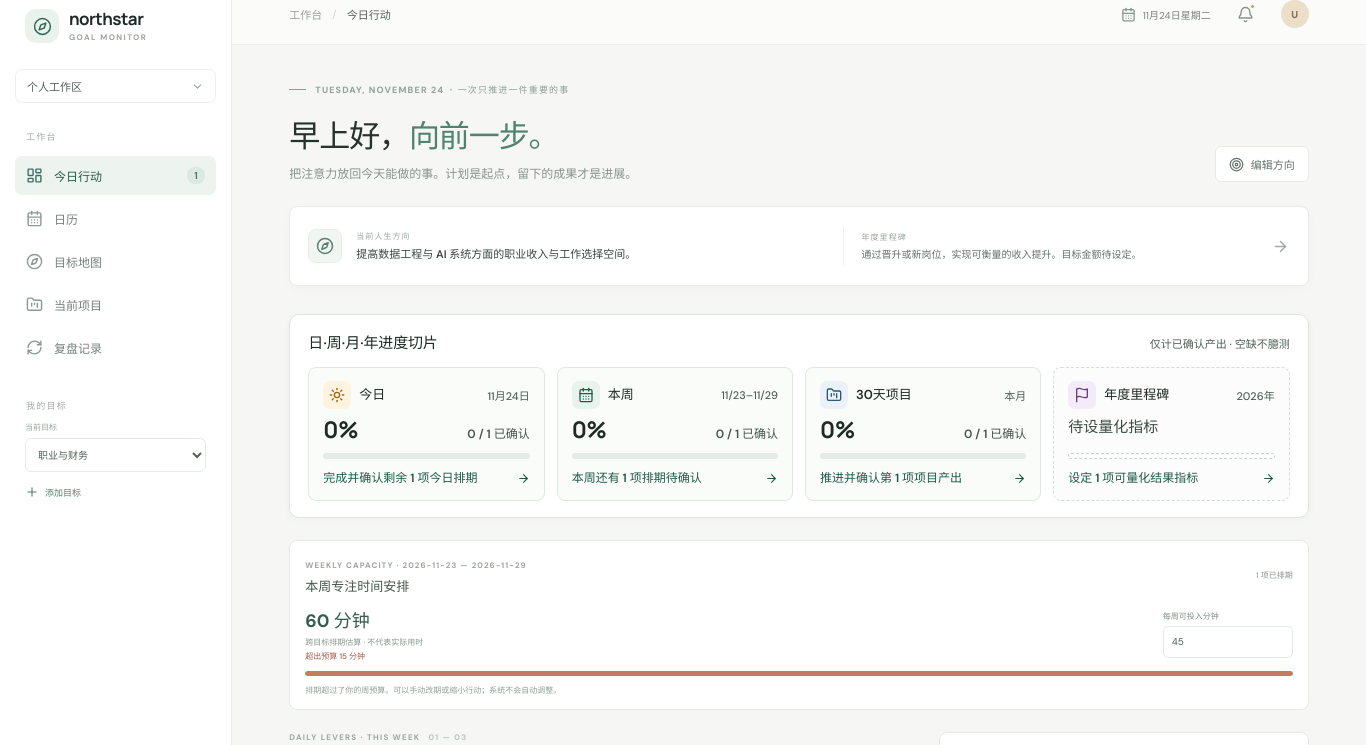
Test: Goal Monitor first-run flows › compares all goal schedules with a user-set weekly focus budget
The width and height of the screenshot is (1366, 745).
Expected: the text "60 分钟" is shown, left=305, top=609, right=370, bottom=633
Expected: the text "超出预算 15 分钟" is shown, left=305, top=651, right=365, bottom=661
Replace the text in the number field labelled "每周可投入分钟" with "120" at (1228, 642), box left=1163, top=626, right=1293, bottom=658
(page scrolled)
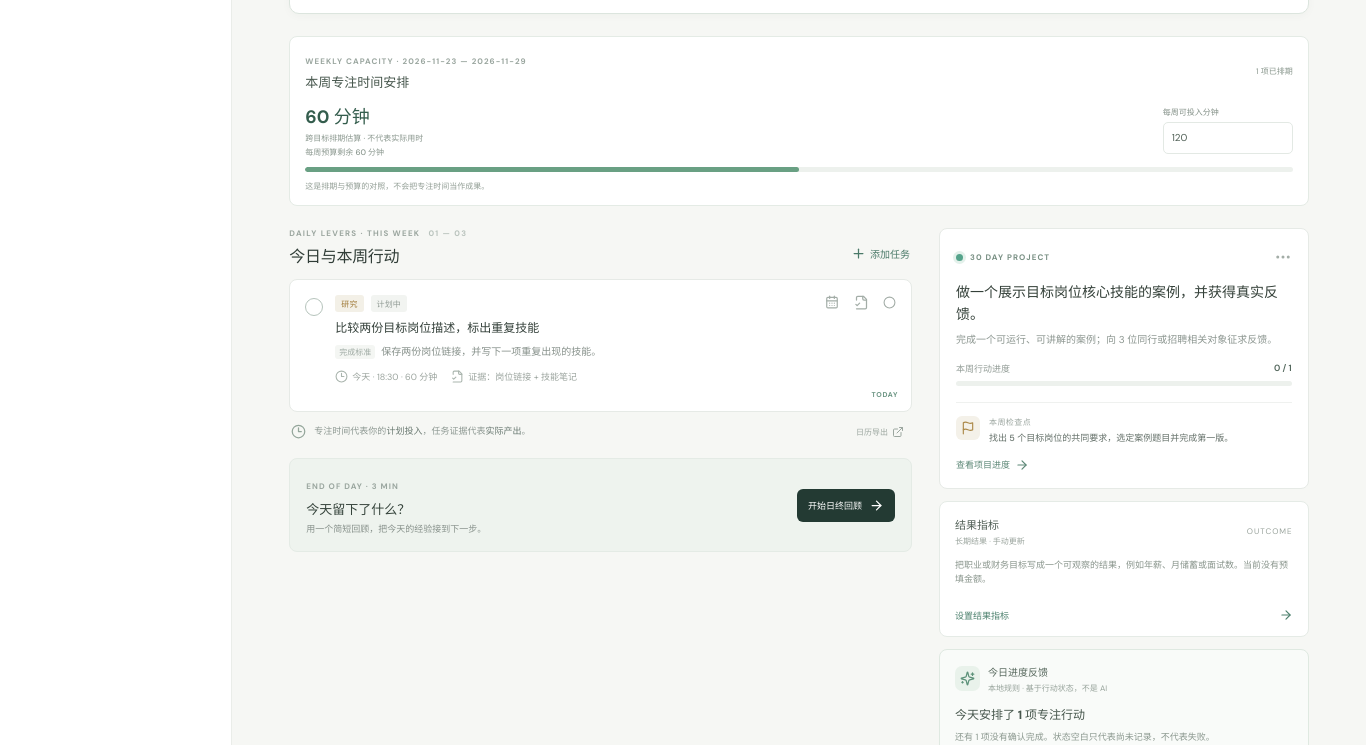
Expected: the text "0 / 1" is shown, left=1274, top=362, right=1292, bottom=375
Now the text "每周预算剩余 60 分钟" is shown, box left=305, top=147, right=384, bottom=157
